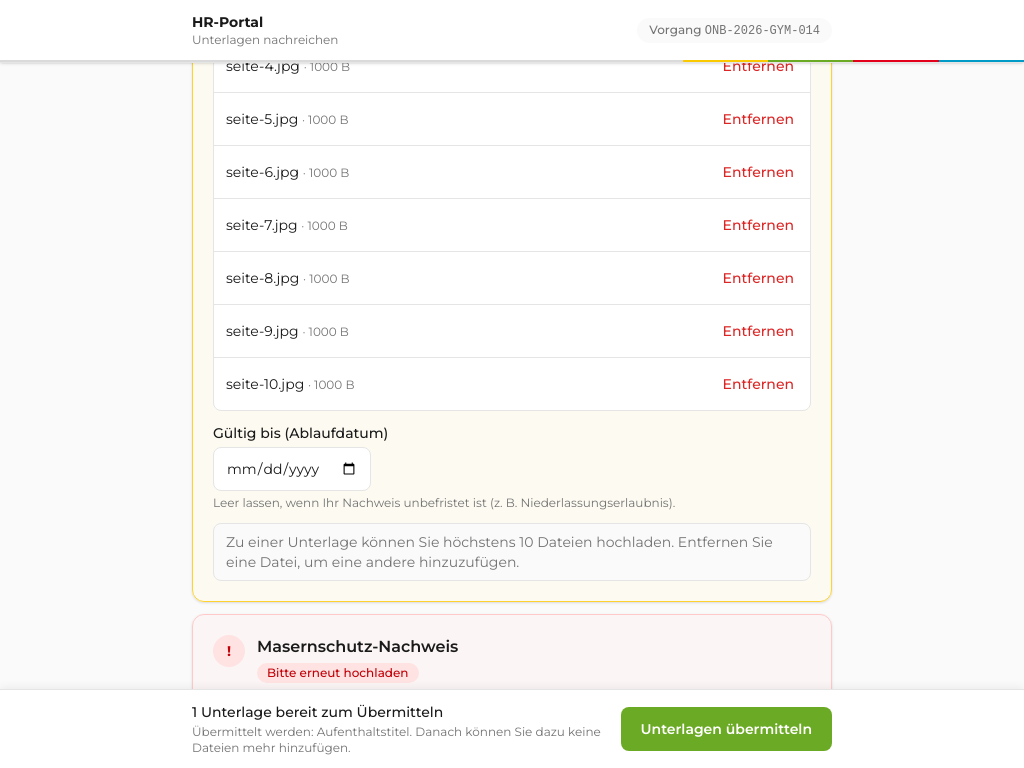
Scenario: Hochladen › 10 Dateien schon beim Öffnen: der Grund steht da, ohne dass etwas gewählt wurde; nach „Entfernen“ ist das Feld zurück
(page scrolled)
Expected: the field labelled "Datei hinzufügen" is not shown
Step 1. Click the button with aria-label "seite-10.jpg entfernen" → [758, 384], box [711, 362, 806, 406]
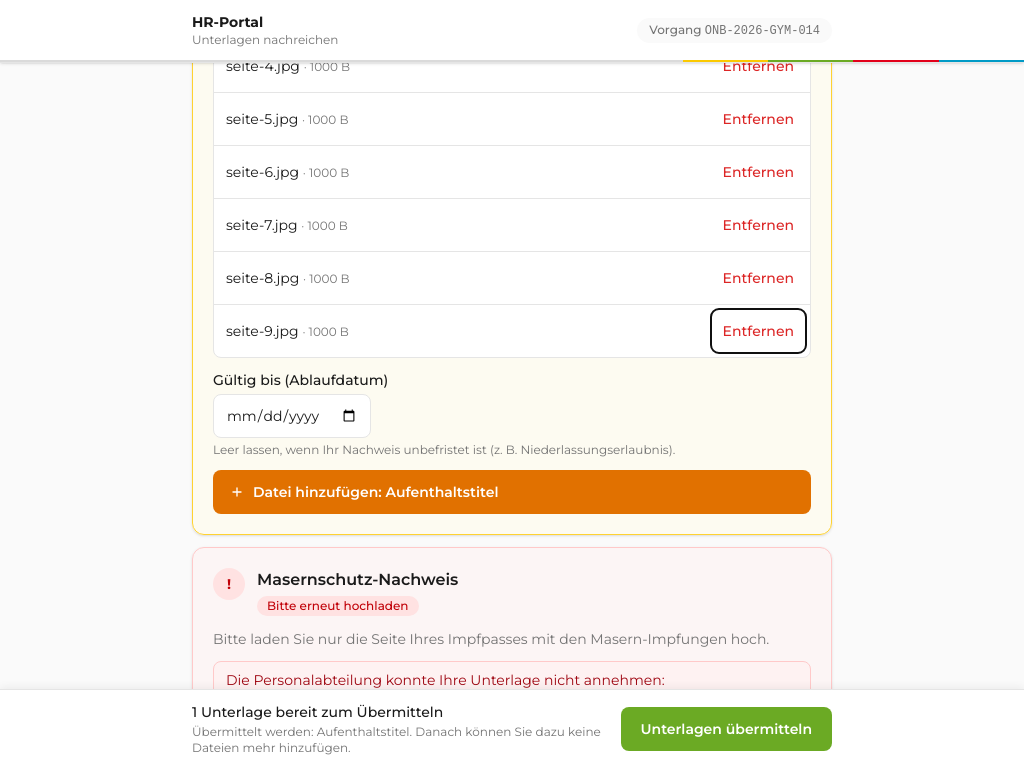
Now the file field labelled "Datei hinzufügen: Aufenthaltstitel" is shown, box [213, 470, 811, 514]
